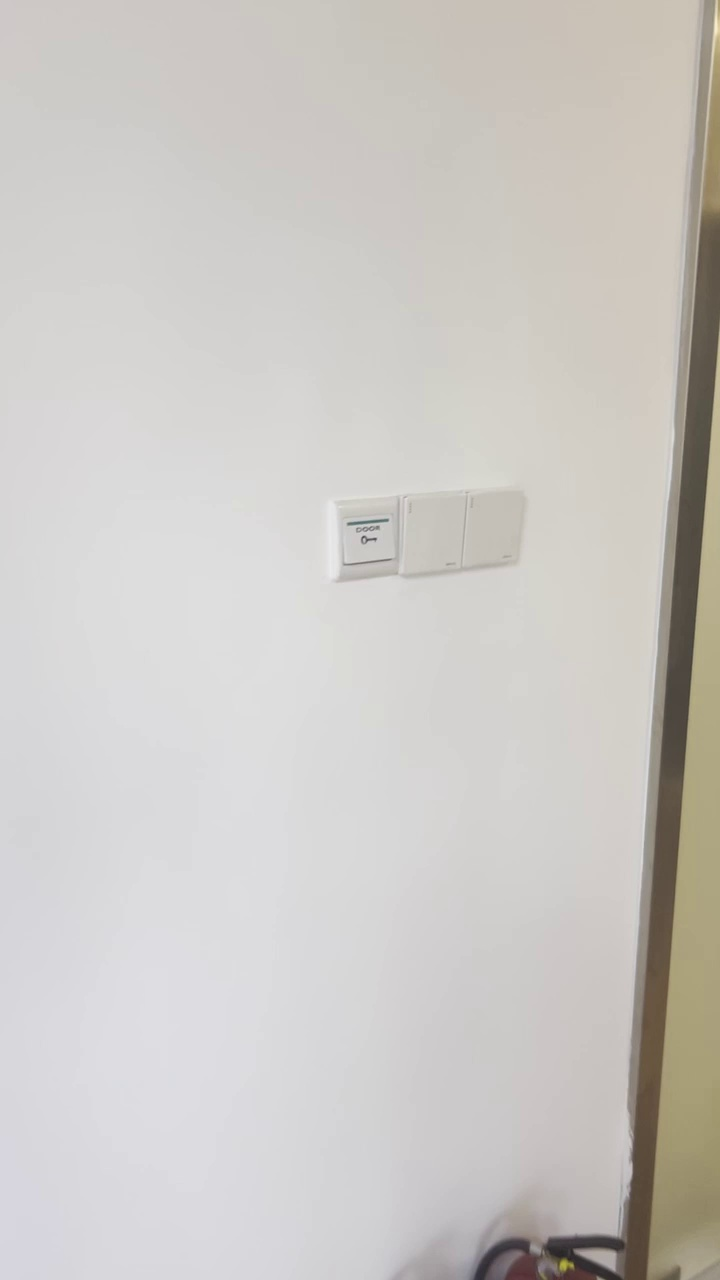button: (397, 491, 467, 574), (461, 487, 522, 568)
